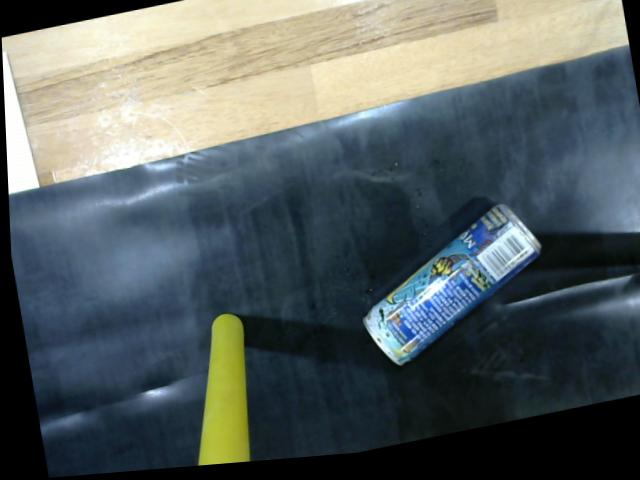can: (351, 203, 552, 381)
